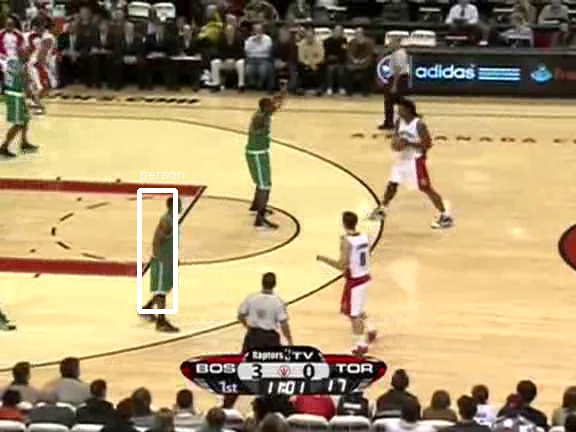person: (152, 212, 186, 293), (151, 212, 185, 293), (153, 212, 187, 293), (152, 211, 186, 292), (152, 213, 186, 294)
target_negative: (118, 5, 398, 281), (344, 38, 433, 240), (458, 23, 499, 308), (72, 226, 88, 280), (449, 409, 575, 415), (534, 365, 538, 428)
